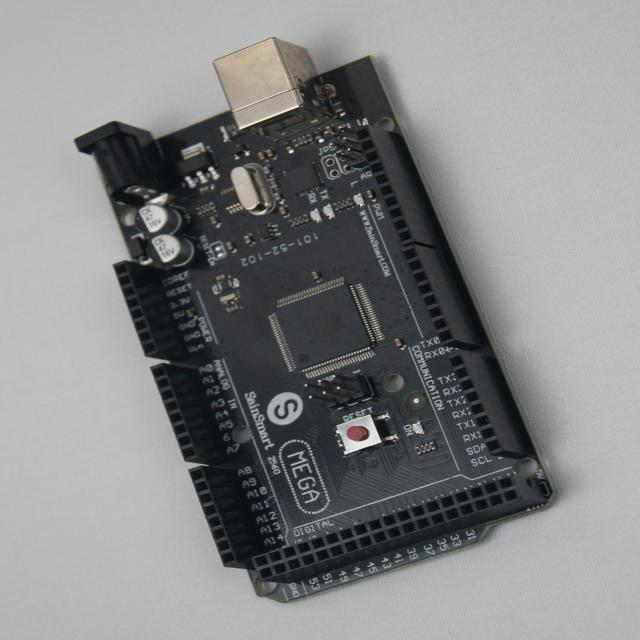Arduino Mega 2560 -Black-: (77, 39, 554, 603)
